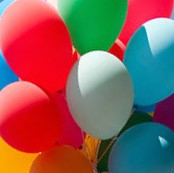Balloon: (65, 50, 134, 139), (1, 1, 70, 90), (125, 19, 174, 105), (1, 80, 58, 153), (106, 122, 174, 173), (30, 146, 93, 173)
